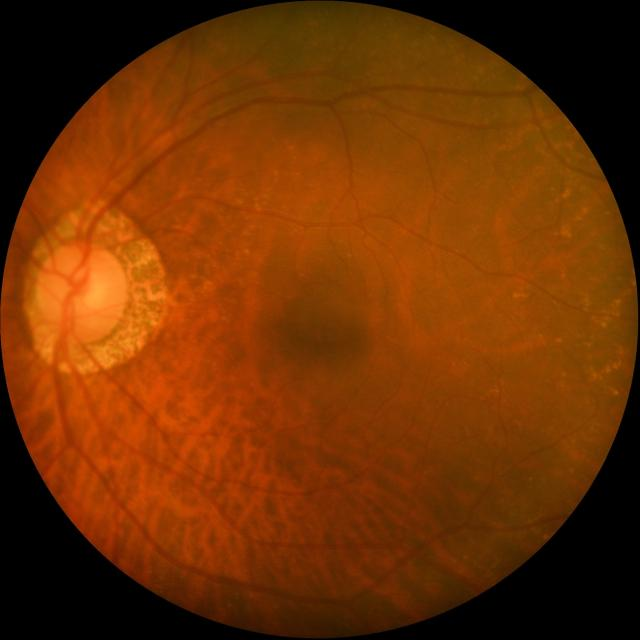OC: (63, 271, 104, 311)
OD: (34, 241, 126, 342)
